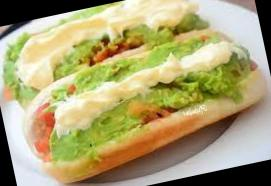Completos: (16, 13, 271, 186)
